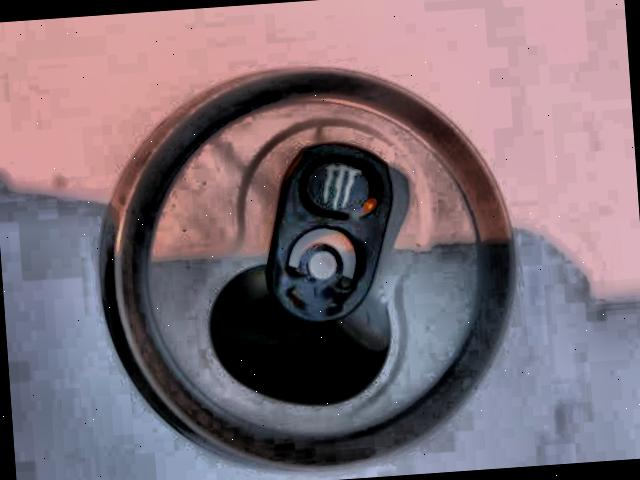Bottles: (75, 32, 532, 480)
